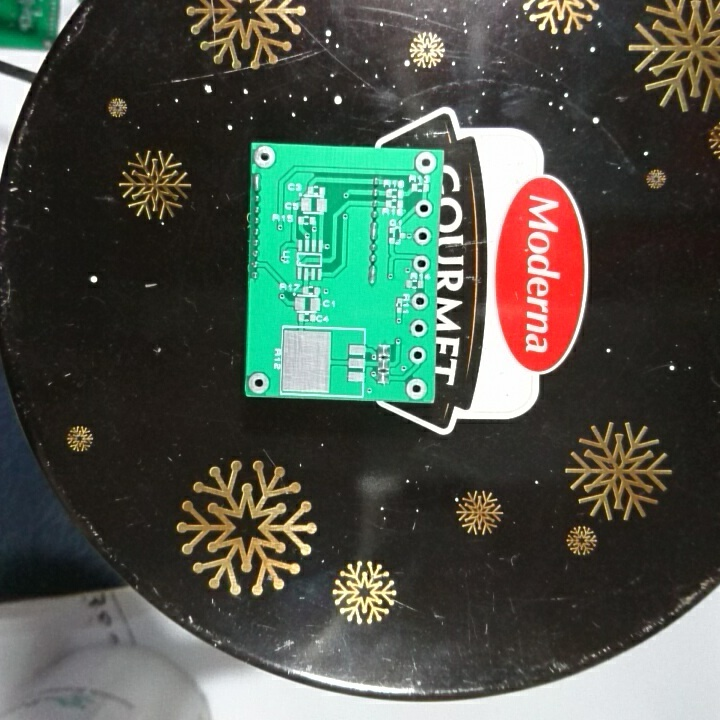F: (413, 150, 439, 178), (251, 143, 277, 169), (247, 370, 272, 395), (404, 375, 428, 400), (407, 290, 431, 312), (407, 318, 430, 340), (412, 225, 434, 247), (406, 345, 428, 366), (413, 198, 434, 219), (411, 252, 432, 273)
P: (365, 263, 379, 286), (251, 171, 265, 192), (367, 220, 379, 243)
